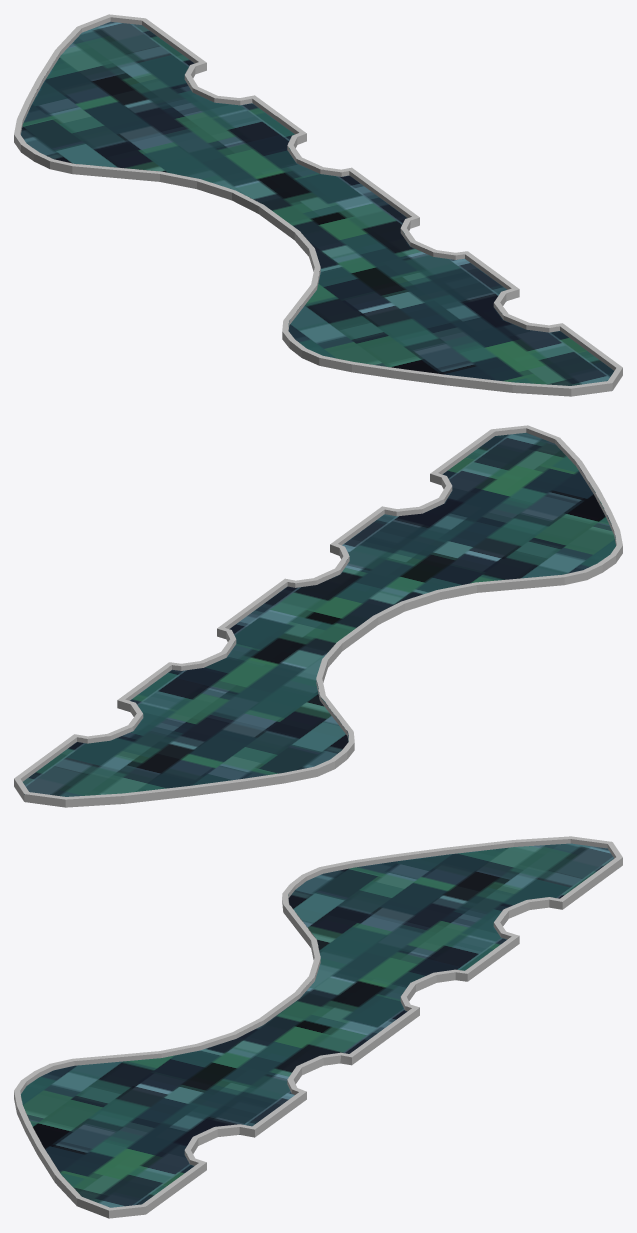
Rendered from Park.fbx.
3 renders of one model, top to bottom at view 1: azimuth 30°, elevation 25°; view 2: azimuth 150°, elevation 25°; view 3: azimuth 330°, elevation 25°, orthographic.
Visible parts, largest first — view 1: Line033; view 2: Line033; view 3: Line033.
Boxes of the visible parts, <box> form: Line033: <box>14,14,622,396</box>; Line033: <box>14,425,622,807</box>; Line033: <box>14,836,622,1218</box>.
Size of the model in its own units: 712 by 24.07 by 2750.
Materials: 1 (1 with a texture image).
